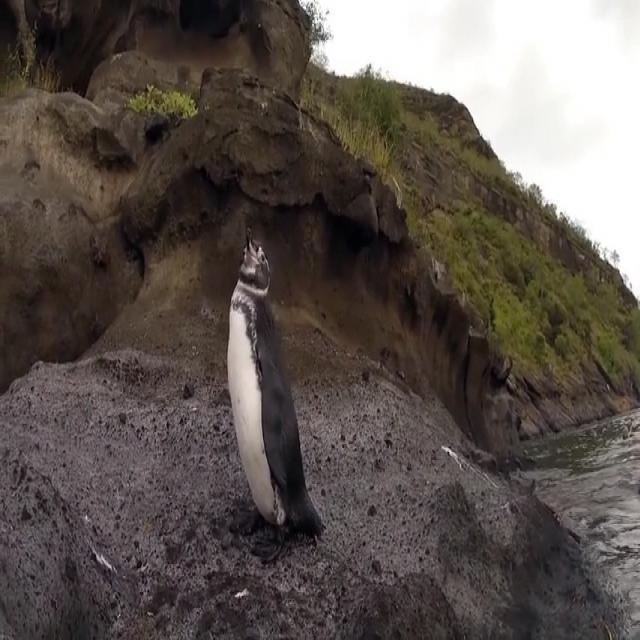penguin: (224, 228, 327, 564)
